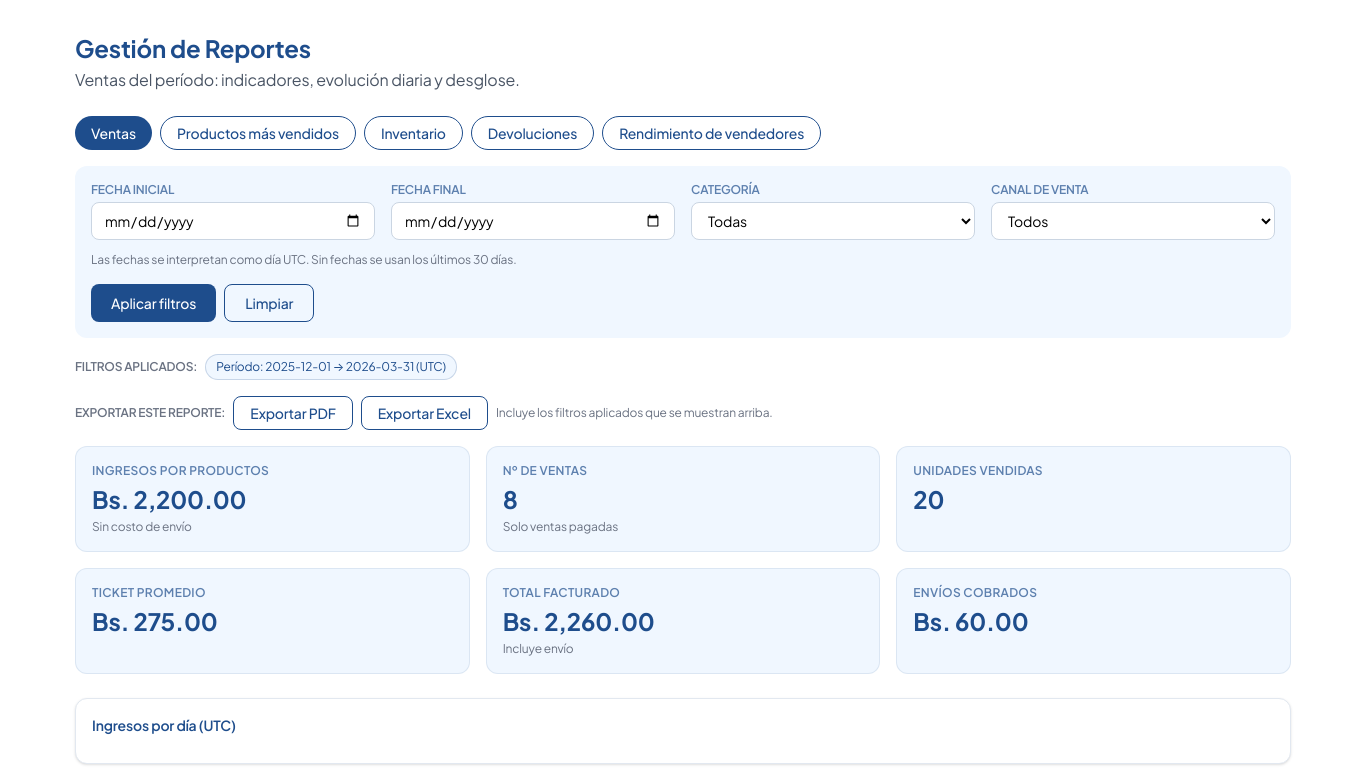
Scenario: ReportesComponent › filtros › ventas: envía fecha_inicio, fecha_fin, categoria_id y canal_venta tal como se eligieron
Type "2026-01-01" into the date field labelled "Fecha inicial".
click(233, 221); type("2026-01-01")  # box [91,202,375,240]
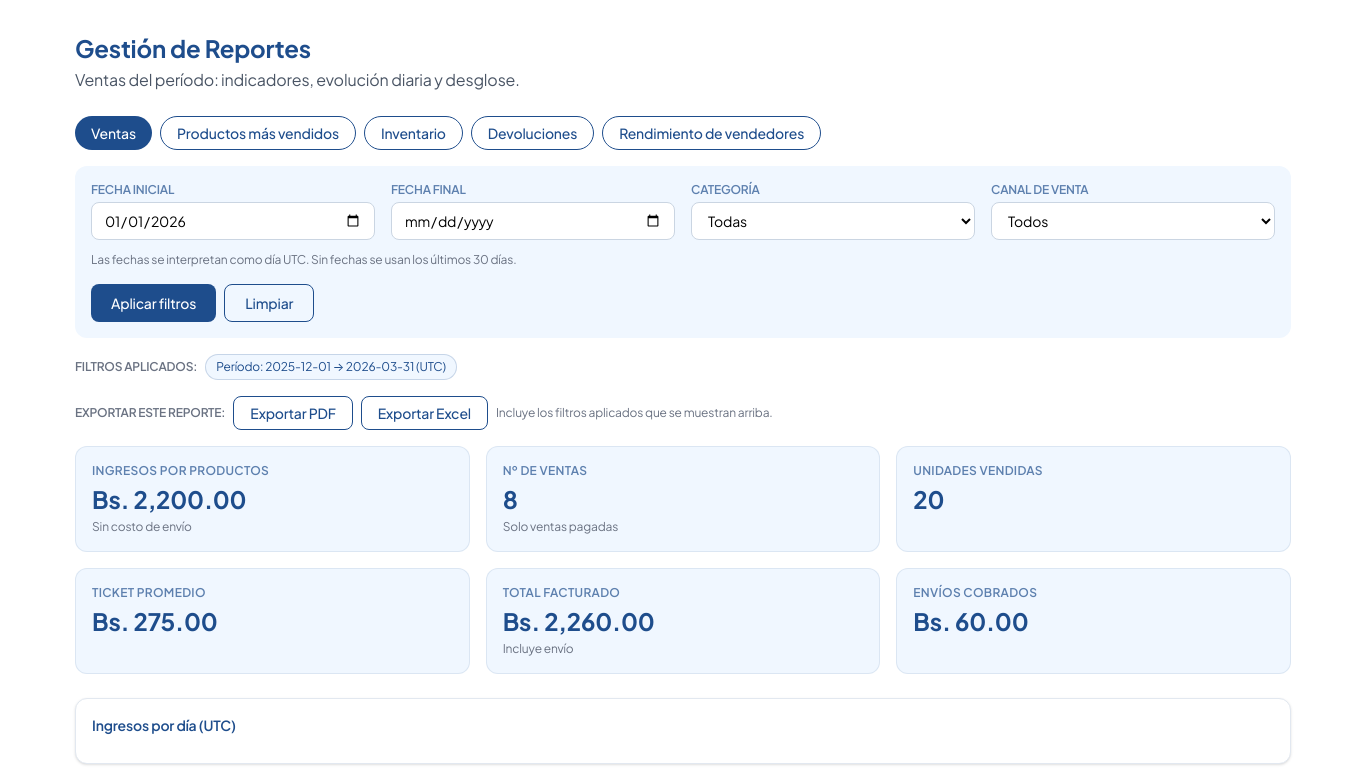
Type "2026-01-31" into the date field labelled "Fecha final".
click(533, 221); type("2026-01-31")  # box [391,202,675,240]
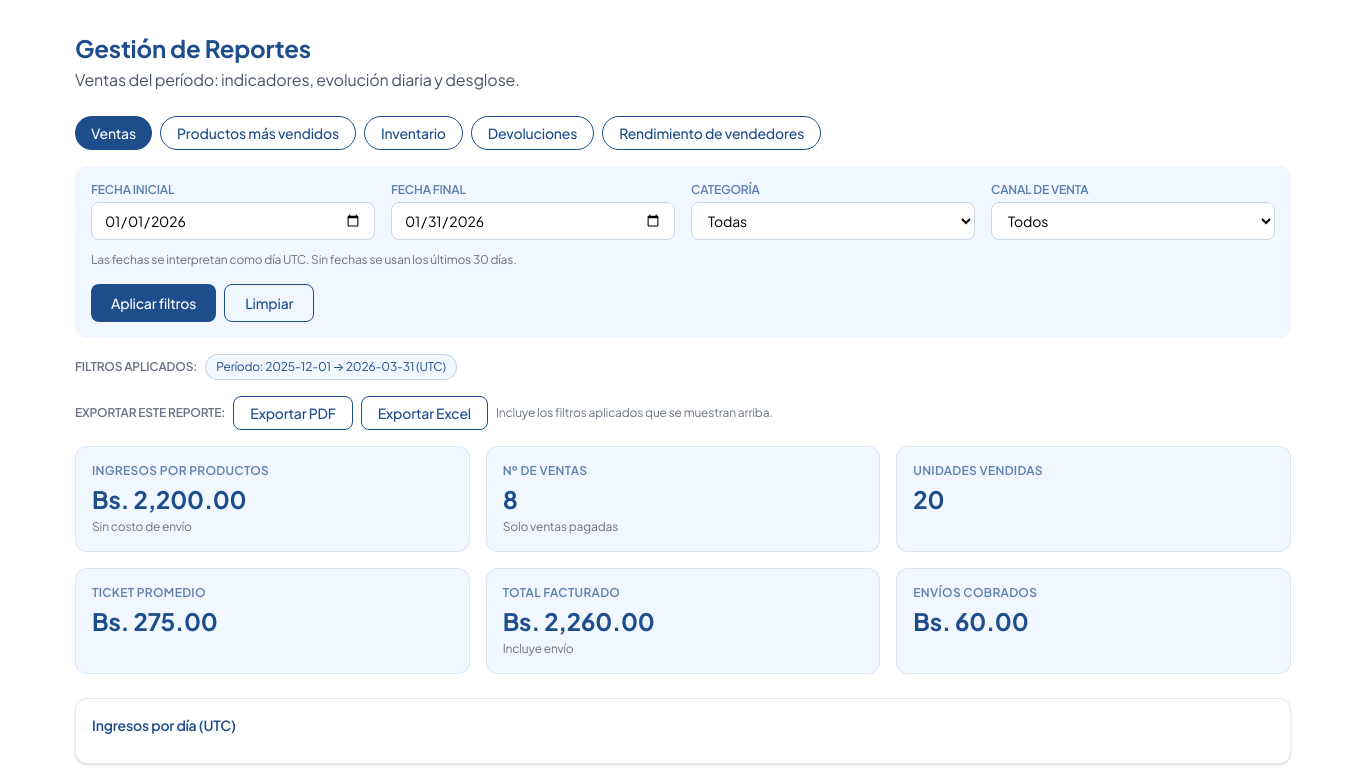
Select "Camisas (Hombre)" in the dropdown labelled "Categoría" at (833, 221), box [691,202,975,240]
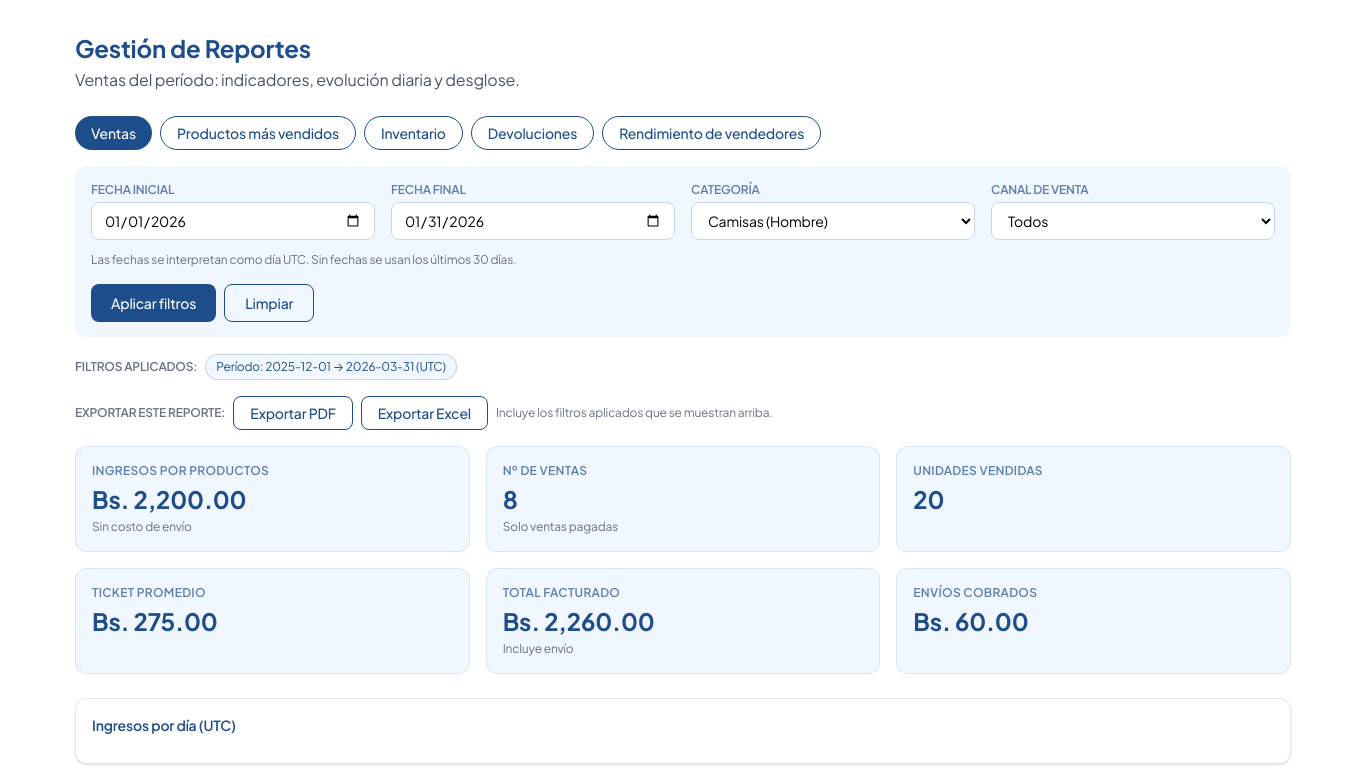
Select "POS (mostrador)" in the dropdown labelled "Canal de venta" at (1133, 221), box [991,202,1275,240]
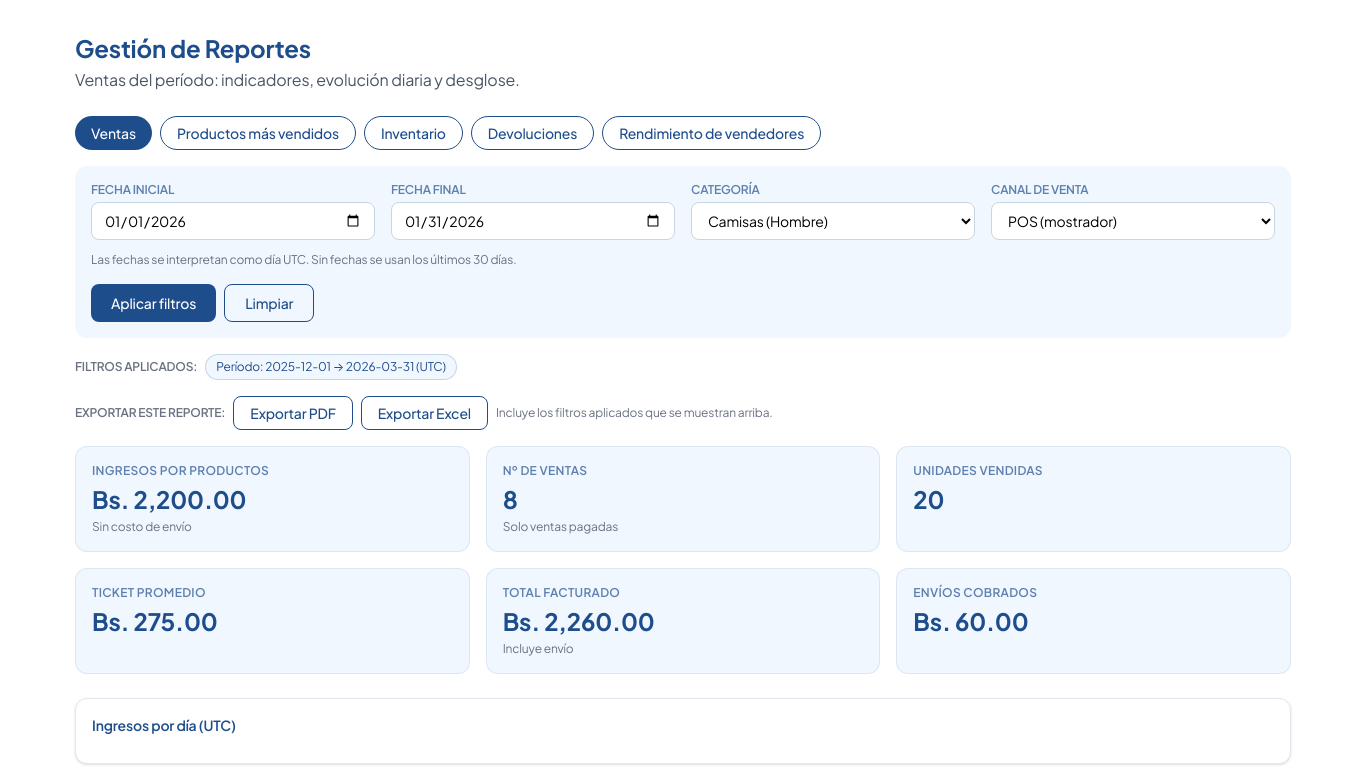
Click the button "Aplicar filtros".
click(154, 303)  # box [91,284,216,322]
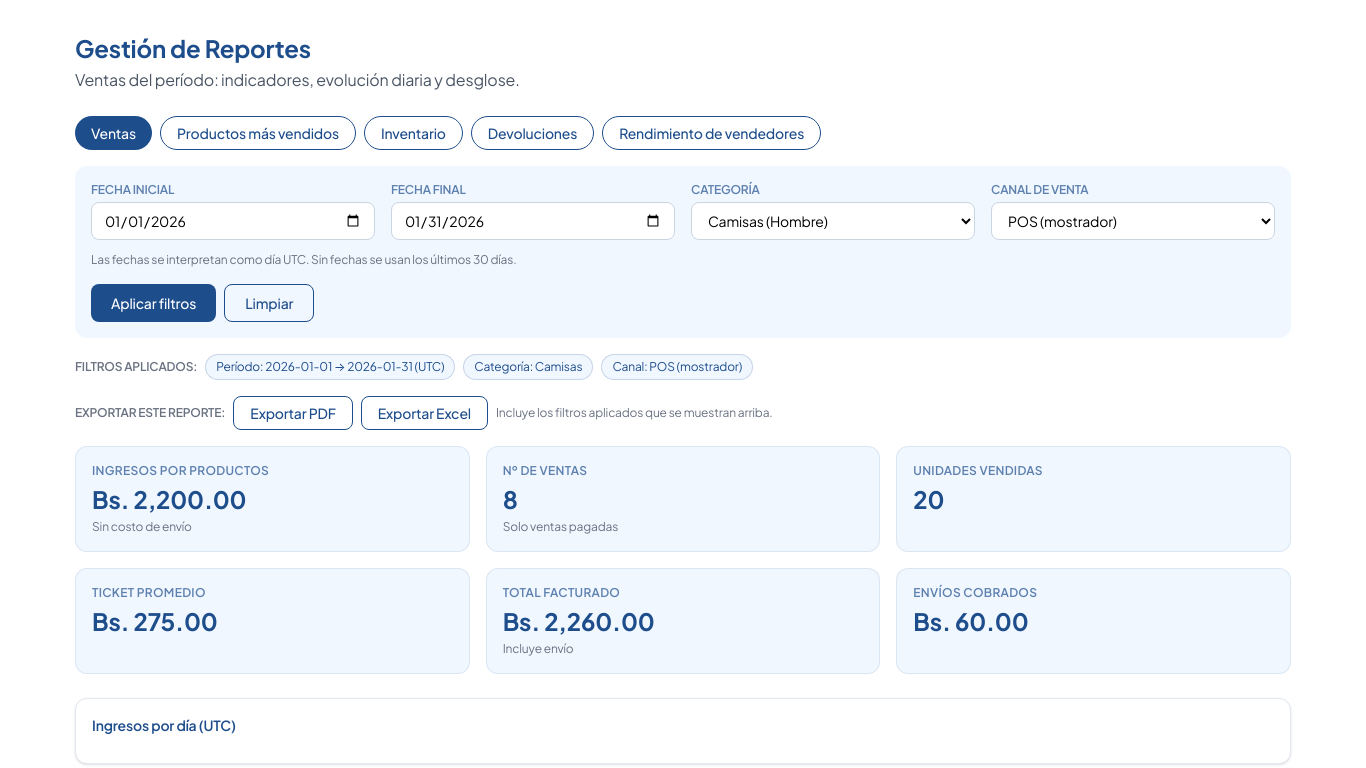
Expected: the text "Categoría: Camisas" is shown, [463,354,594,380]
Expected: the text "Canal: POS (mostrador)" is shown, [601,354,753,380]
